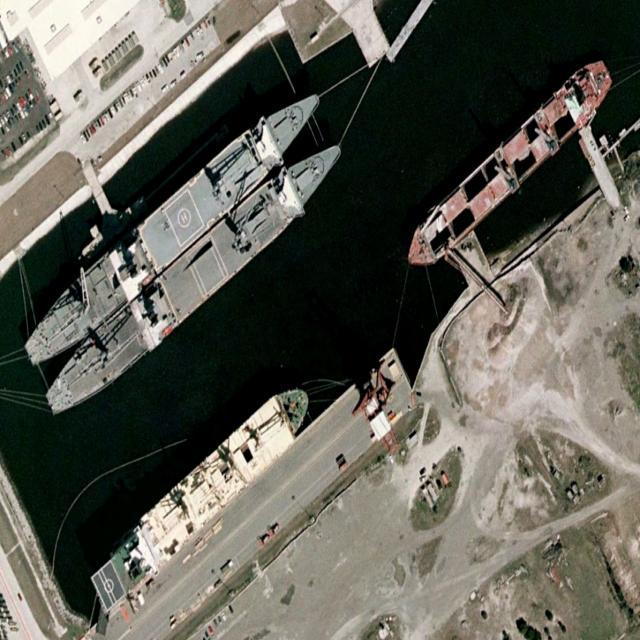Cargo: (17, 73, 330, 378), (38, 125, 351, 427), (85, 370, 319, 616), (398, 52, 618, 280)
